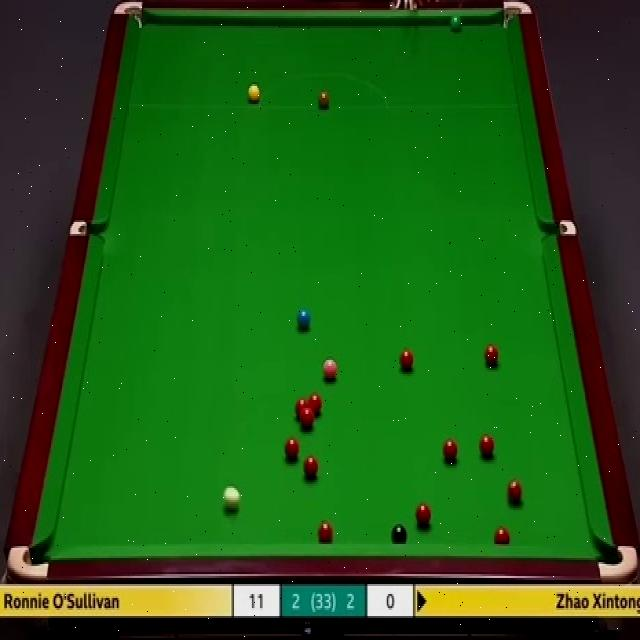black-ball: (389, 524, 407, 546)
blue-ball: (295, 308, 311, 333)
brown-ball: (316, 88, 330, 111)
green-ball: (449, 13, 464, 32)
pink-ball: (323, 354, 338, 382)
red-ball: (506, 477, 524, 508), (398, 347, 416, 375), (302, 455, 319, 483), (317, 518, 334, 545), (414, 503, 431, 529), (478, 433, 495, 459), (286, 436, 302, 461), (442, 439, 458, 463), (484, 343, 499, 368), (308, 394, 322, 418), (494, 526, 510, 546), (301, 410, 314, 430), (295, 398, 308, 418)
white-ball: (223, 486, 241, 514)
yellow-ball: (246, 83, 260, 103)
